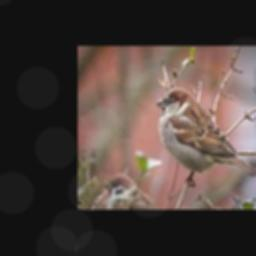Sparrow: (155, 87, 256, 185)
